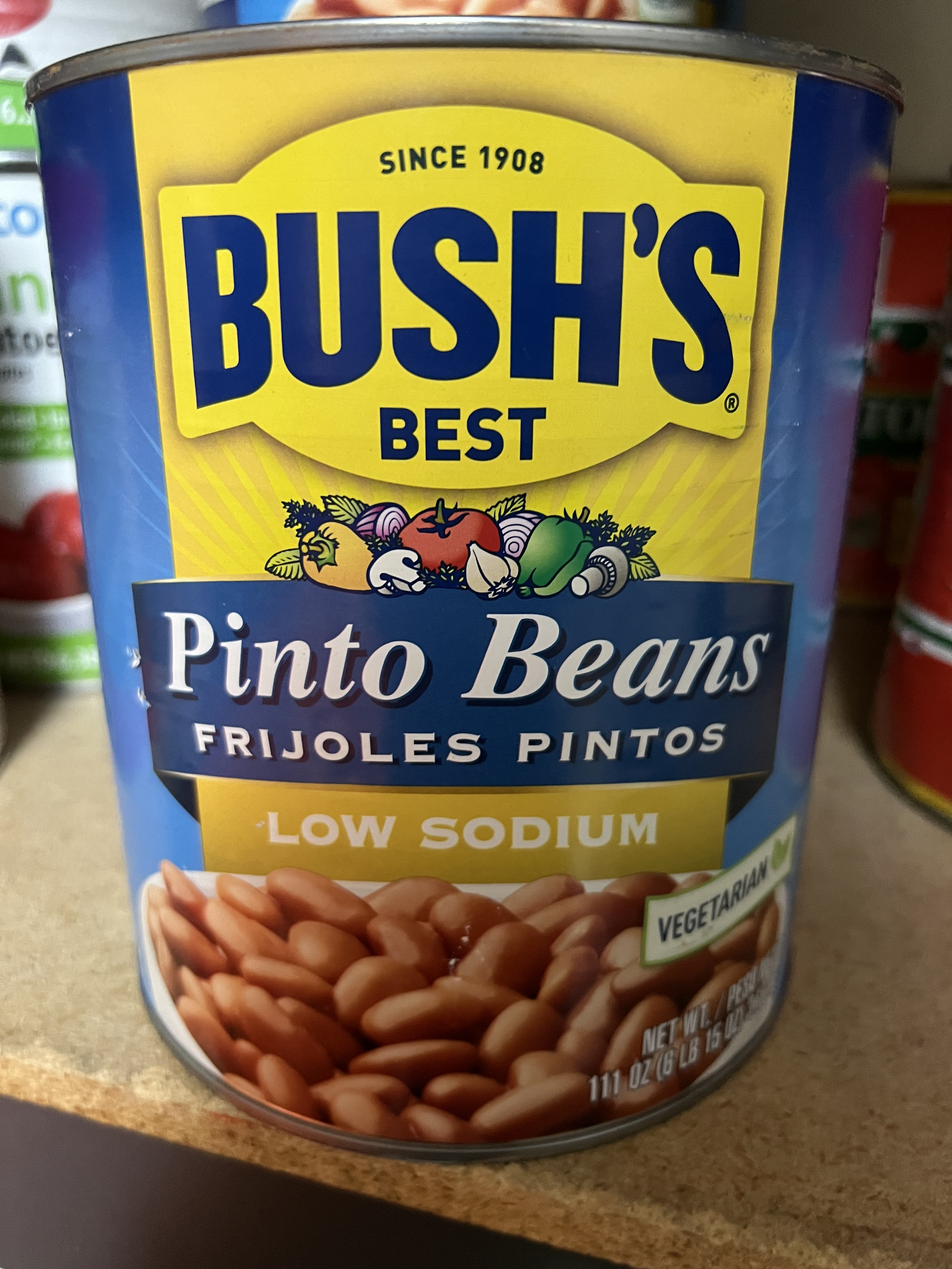packaged: (28, 34, 888, 1170)
